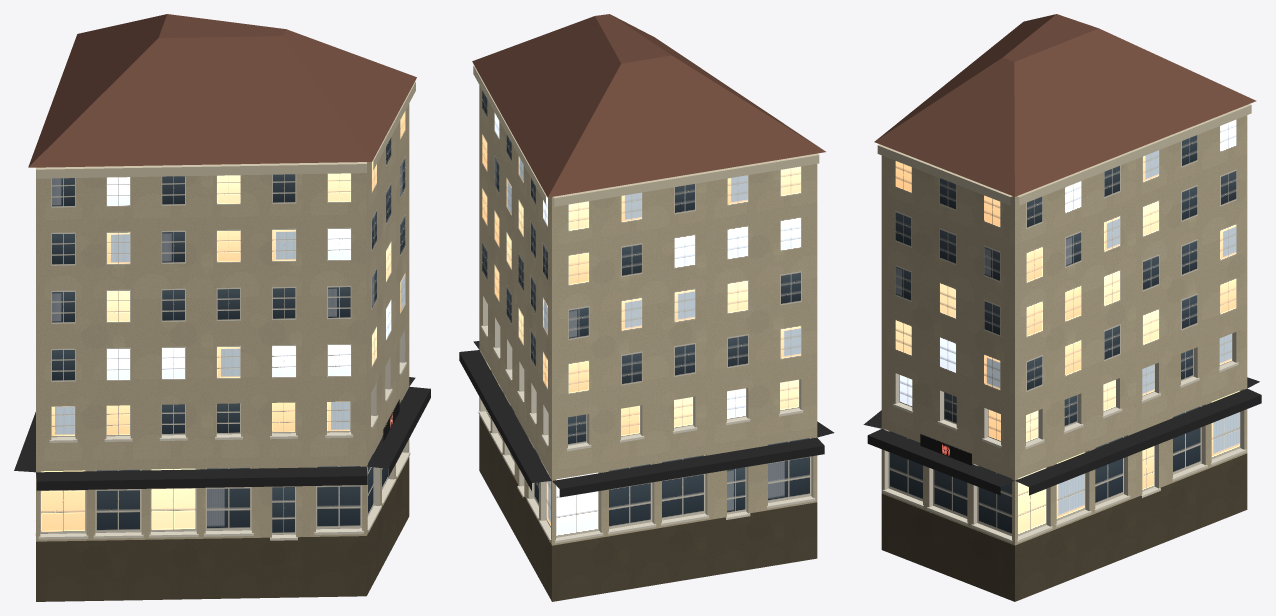
File: langC_rasputin.glb
3 renders of one model, left to right at view 1: azimuth 30°, elevation 25°; view 2: azimuth 150°, elevation 25°; view 3: azimuth 270°, elevation 25°, orthographic. The views are drawn at different scales.
Parts seen in each view (by area): view 1: langC_rasputin; view 2: langC_rasputin; view 3: langC_rasputin.
Part boxes in pixels (x1,y1,x2,y2): langC_rasputin: [14, 14, 430, 601]; langC_rasputin: [459, 14, 834, 601]; langC_rasputin: [863, 14, 1261, 601].
Bounding box in the file's own units: 20.65 × 25.74 × 19.2.
Materials: 3 (3 with a texture image).
